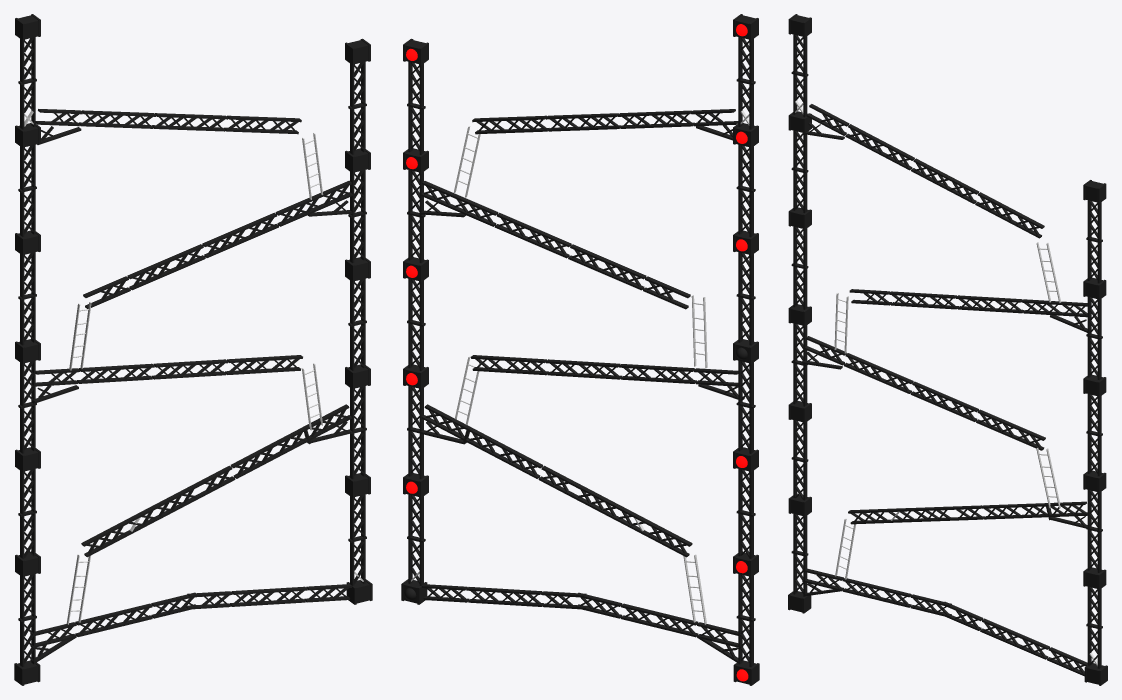
Rendered from Cell_Tower.FBX.
3 views of the same model, side by side, from view 1: azimuth 30°, elevation 25°; view 2: azimuth 150°, elevation 25°; view 3: azimuth 330°, elevation 25° (orthographic). The views are drawn at different scales.
Visible parts, largest first — view 1: Box483, Box536, Box226; view 2: no part large enough to name; view 3: no part large enough to name.
Part boxes in pixels (x1,y1,x2,y2): Box483: (345, 38, 370, 65); Box536: (15, 14, 40, 40); Box226: (14, 659, 40, 685).
Size of the model in its own units: 398 by 719 by 23.74.
